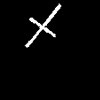single_crochet: (25, 4, 60, 46)
